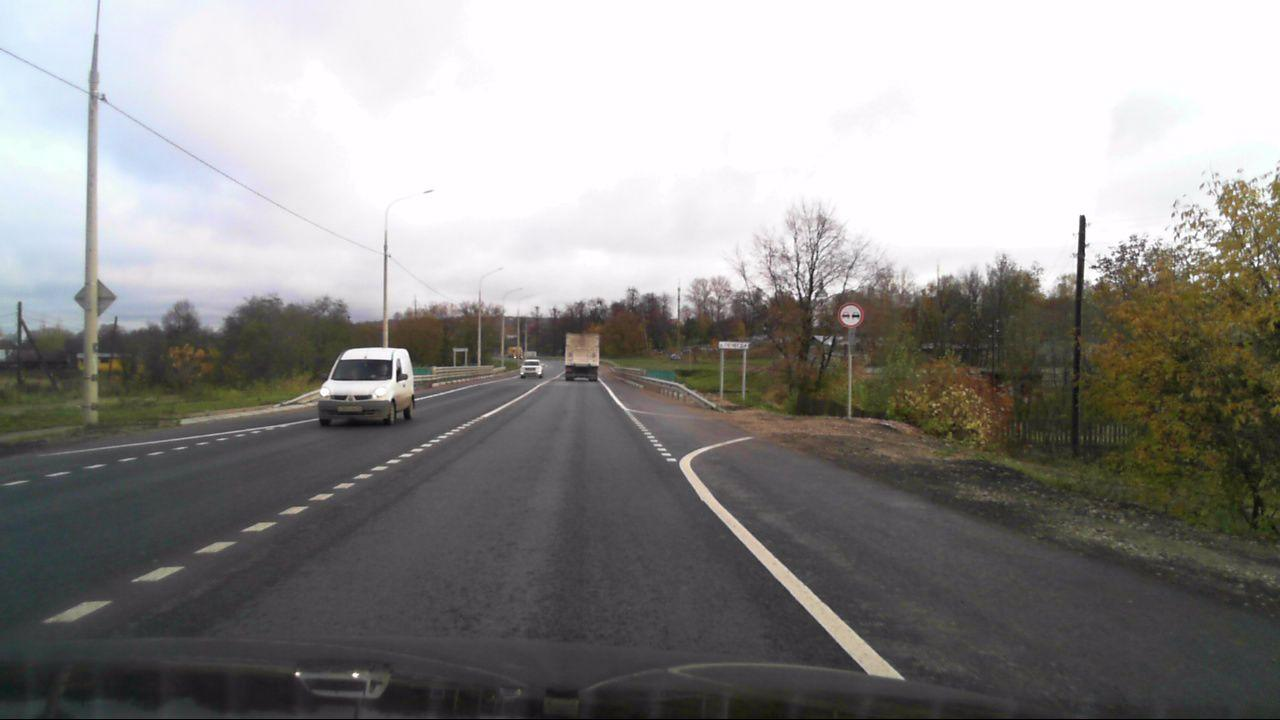3_20: (838, 303, 862, 327)
